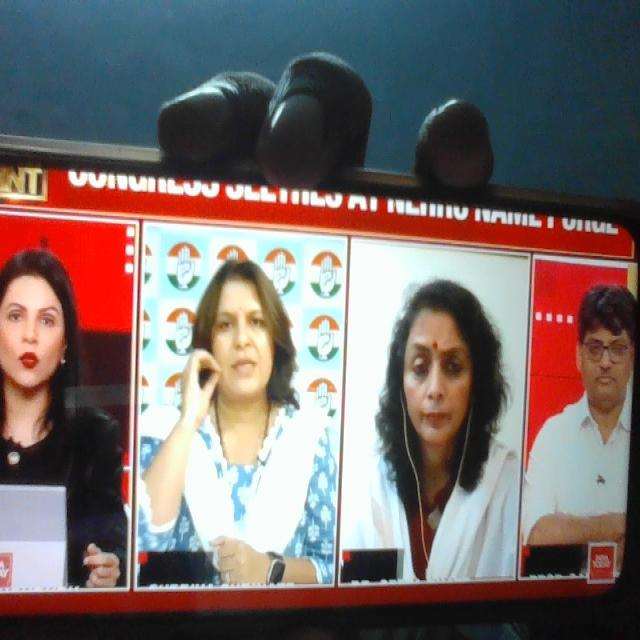fake: (379, 274, 489, 482)
